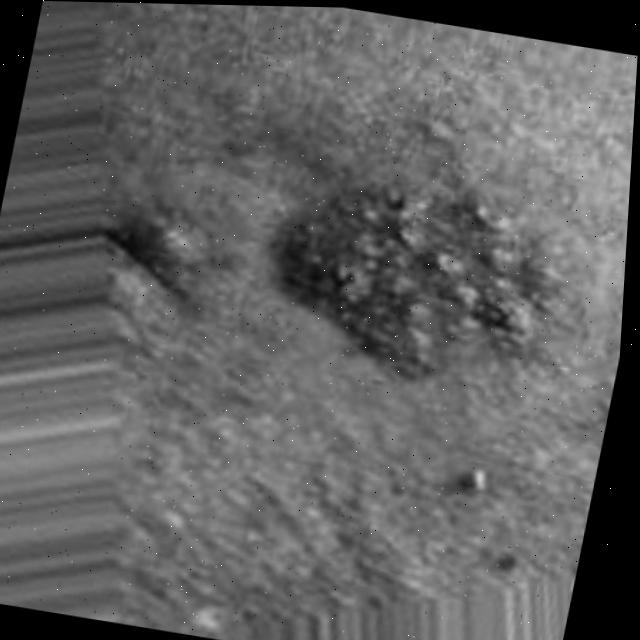Shingles: (268, 179, 544, 383)
